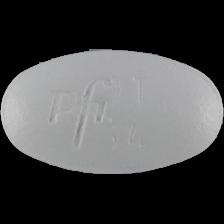59762-6722: (0, 0, 224, 224)
